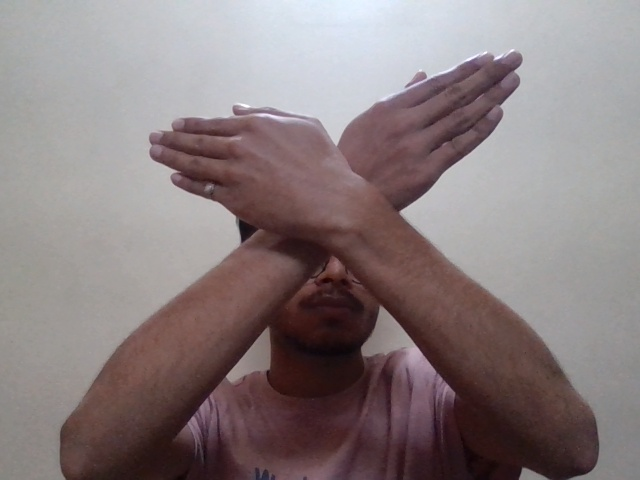feel: (145, 33, 559, 278)
